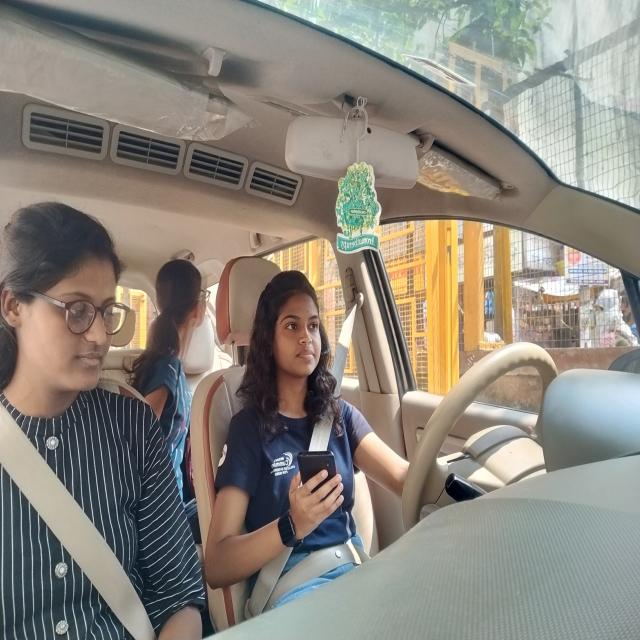mobile: (291, 437, 353, 525)
person: (0, 200, 134, 395), (252, 262, 338, 406), (147, 257, 216, 355)
